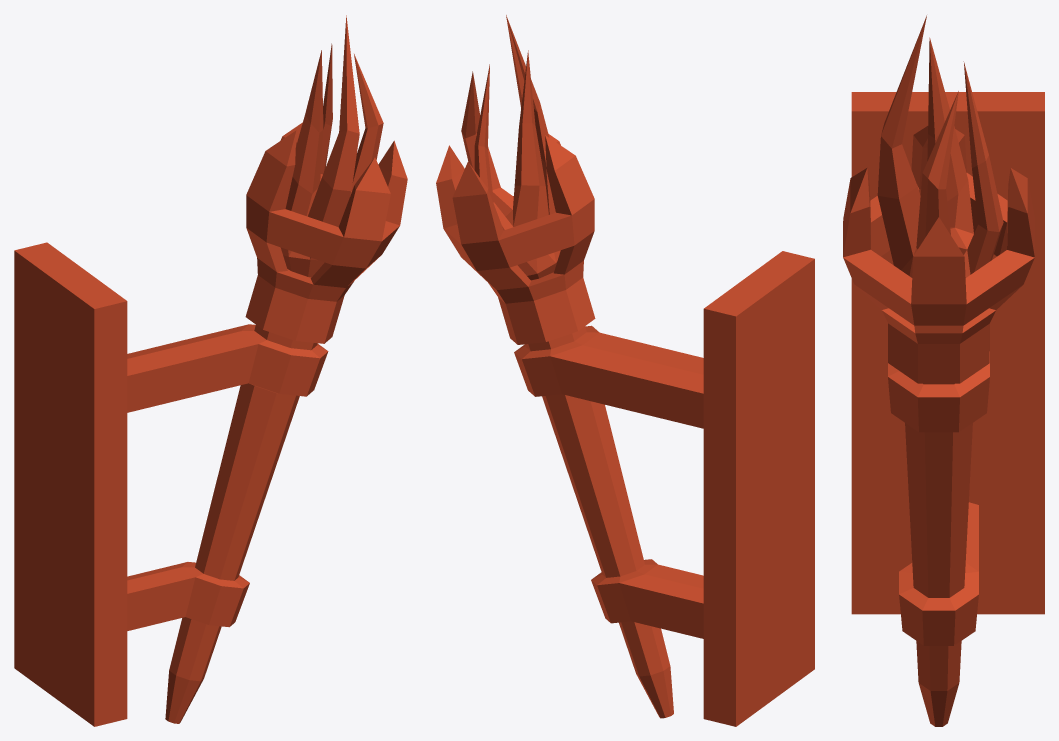
File: torch.glb
3 views of the same model, side by side, from view 1: azimuth 30°, elevation 25°; view 2: azimuth 150°, elevation 25°; view 3: azimuth 270°, elevation 25° (orthographic). The views are drawn at different scales.
Visible parts, largest first — view 1: Torch_Cube.000; view 2: Torch_Cube.000; view 3: Torch_Cube.000.
Boxes of the visible parts, x1,y1,x2,y2 form: Torch_Cube.000: (14,15,407,726); Torch_Cube.000: (436,15,814,726); Torch_Cube.000: (843,15,1044,726).
Bounding box in the file's own units: 1.1 × 2.08 × 0.4704.
